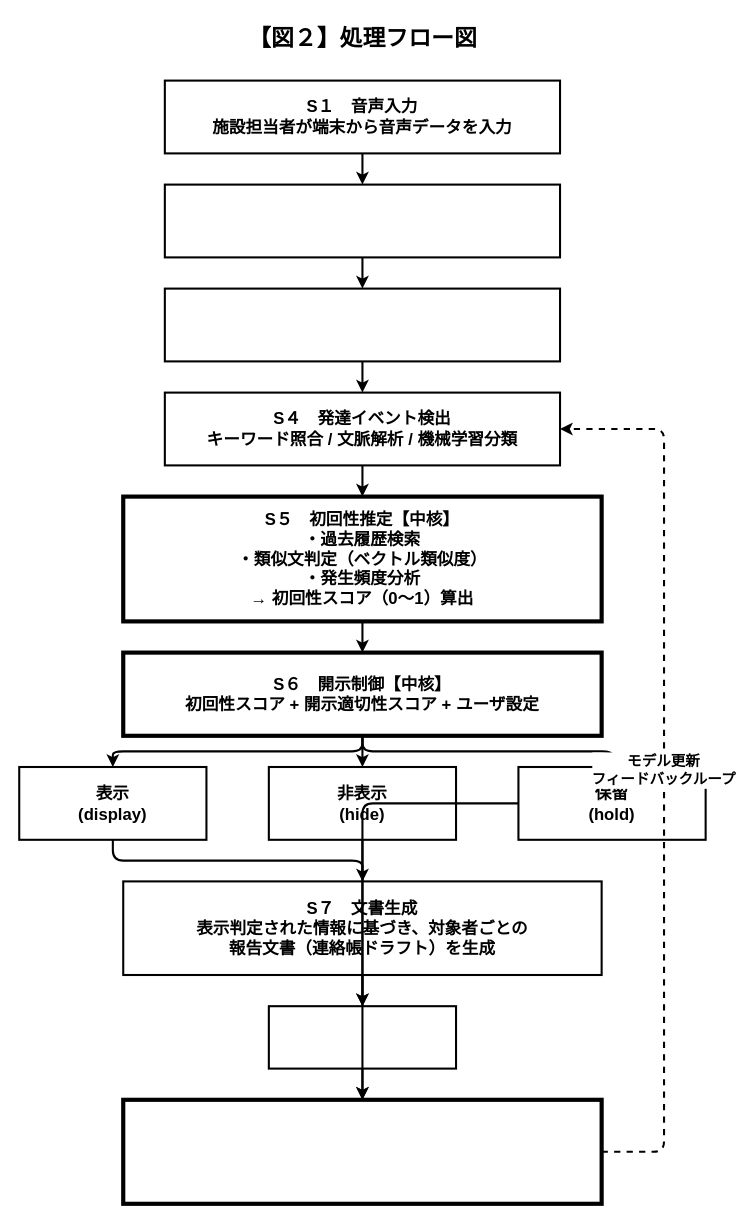
This 755x1223 diagram has some shape labels left out. Here are the shapes that lost their labels. From the top down, the box of each, then its label:
(163, 183, 561, 258): S２ テキスト化（音声認識） 音声データをテキストデータに変換
(163, 287, 561, 362): S３ 対象者別抽出 対象者ごとの関連文を抽出
(267, 1005, 457, 1069): 除外情報記録 （理由付き構造化データ）
(121, 1097, 603, 1205): S８ 学習更新 担当者によるフィードバック（承認・修正・除外解除等） → 検出モデル及び推定モデルを更新
